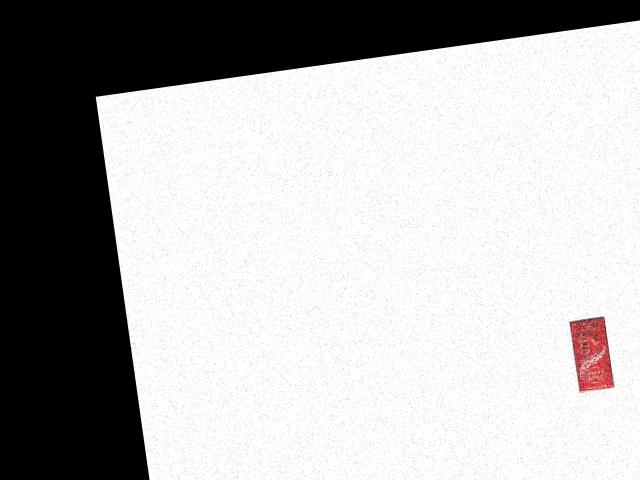chocolate: (566, 310, 615, 394)
